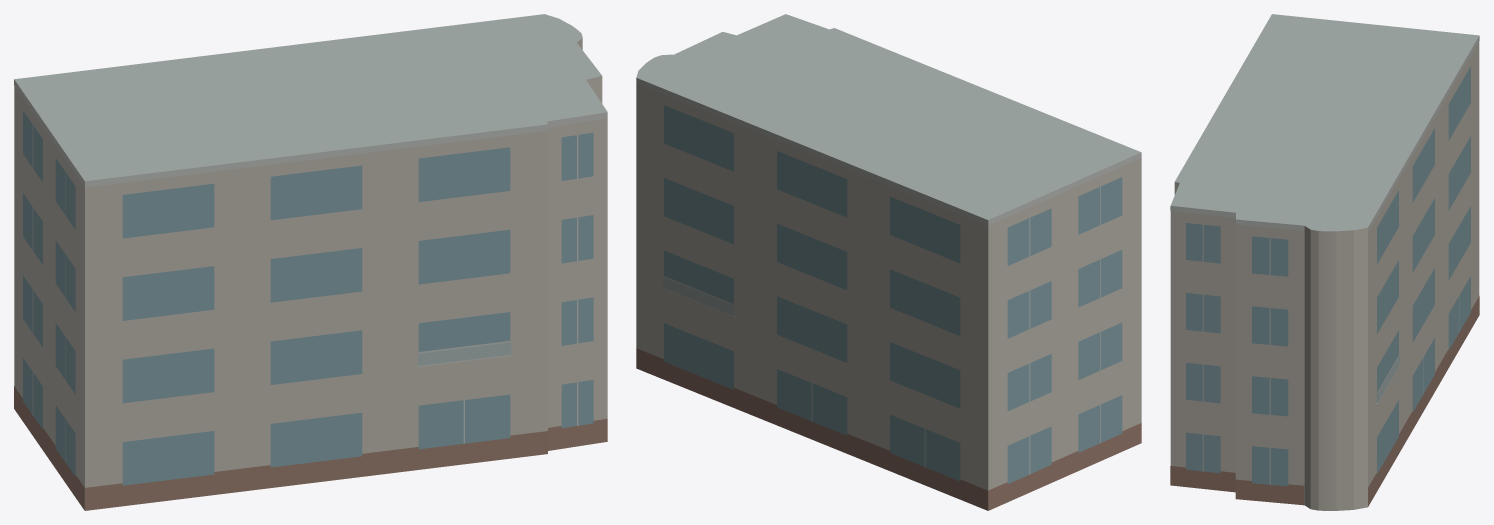
The model's file is survey-upis-32665391.glb.
3 renders of one model, left to right at view 1: azimuth 30°, elevation 25°; view 2: azimuth 150°, elevation 25°; view 3: azimuth 270°, elevation 25°, orthographic. The views are drawn at different scales.
Parts seen in each view (by area): view 1: survey-upis-32665391.tmp; view 2: survey-upis-32665391.tmp; view 3: survey-upis-32665391.tmp.
Part boxes in pixels (box(x1,y1,x2,y2)): survey-upis-32665391.tmp: box(14, 14, 607, 510); survey-upis-32665391.tmp: box(636, 14, 1141, 510); survey-upis-32665391.tmp: box(1170, 14, 1479, 510).
Size of the model in its own units: 21.34 by 12.8 by 12.83.
